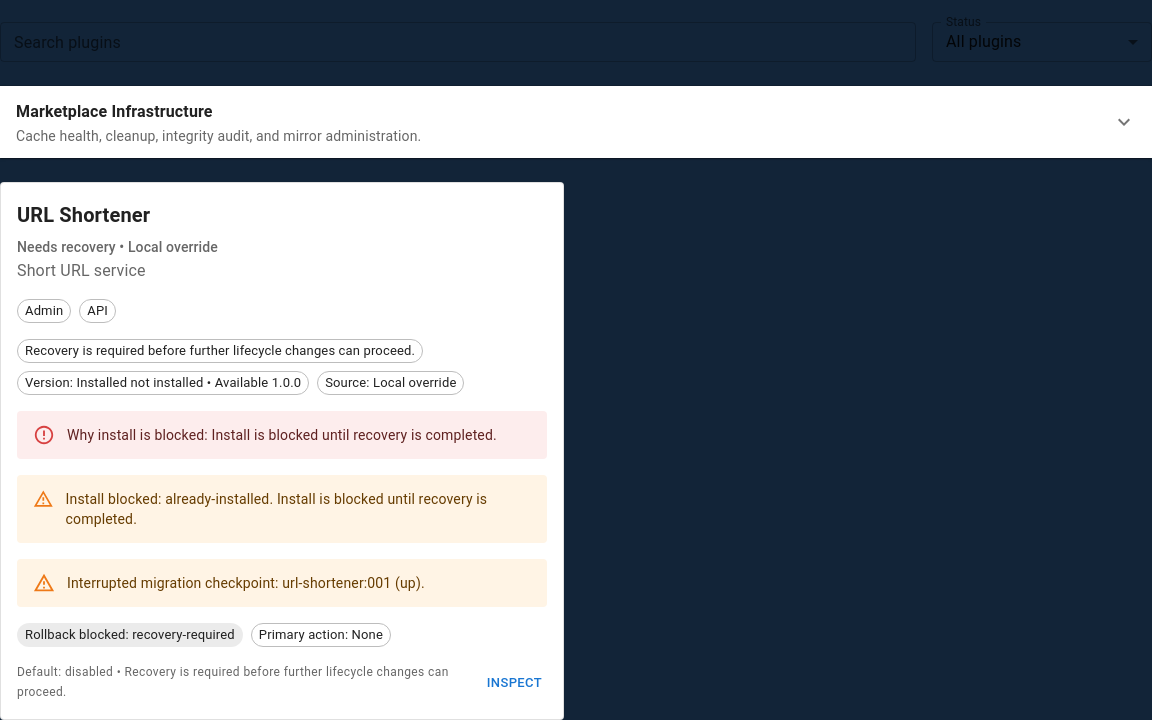
Test case: AdminPluginsPage › renders local override state with source labeling and safe path redaction in inspect view
This screenshot has width=1152, height=720.
(page scrolled)
Expected: the heading "URL Shortener" is shown, [17, 203, 150, 227]
Expected: the heading "Needs recovery • Local override" is shown, [17, 237, 218, 259]
Click the button with aria-label "Inspect URL Shortener" at [514, 683], box [482, 668, 547, 698]
(page scrolled)
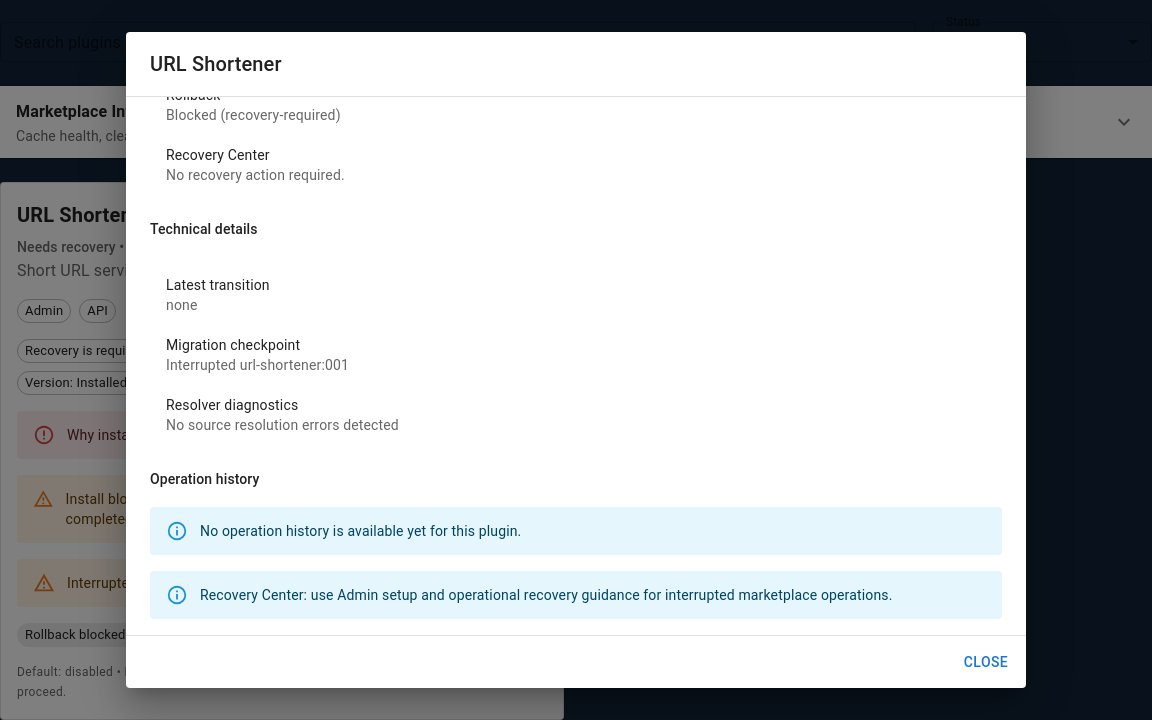
Expected: the heading "Technical details" is shown, [150, 221, 258, 237]
Expected: the text "Resolver diagnostics" is shown, [166, 397, 298, 413]
